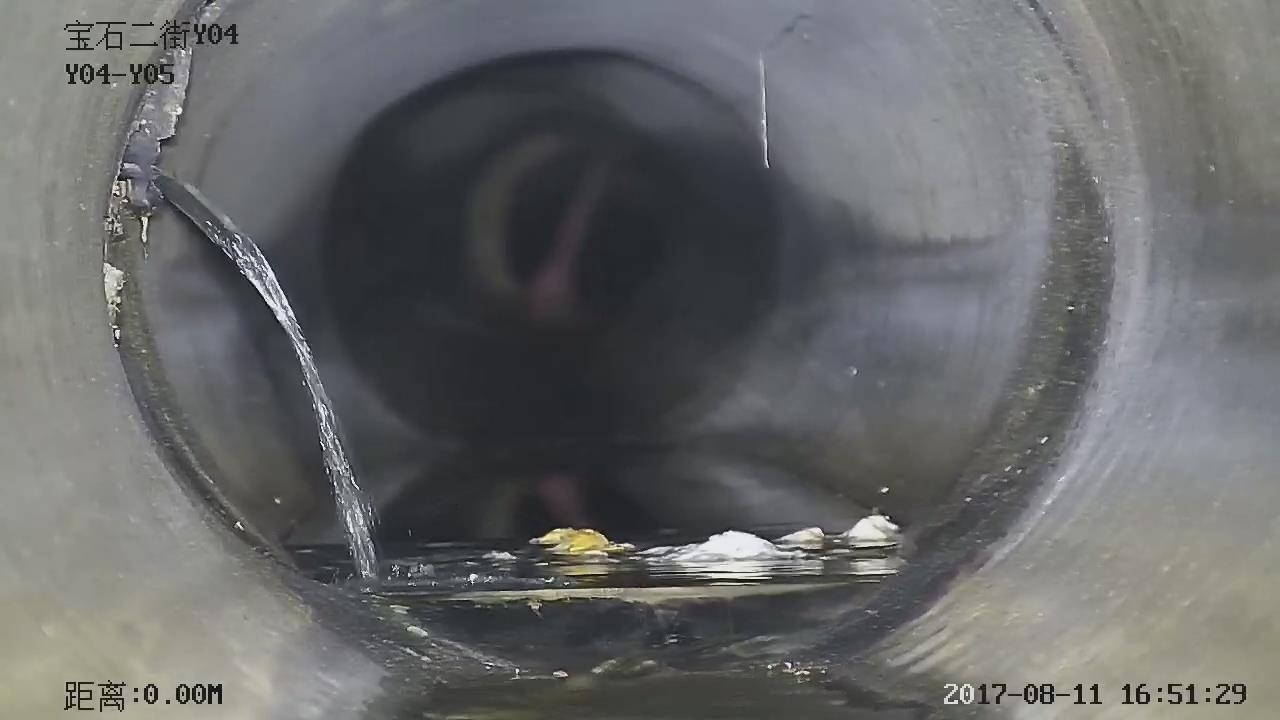SL: (110, 150, 427, 615)
